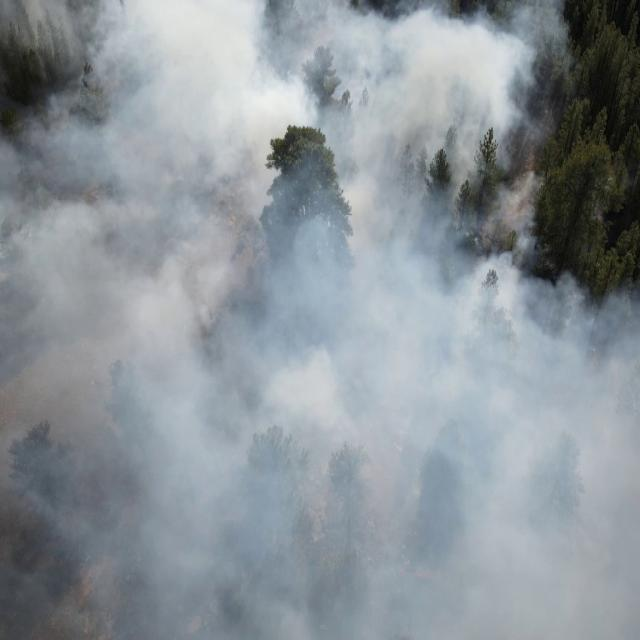smoke: (0, 0, 545, 640), (544, 271, 640, 640), (545, 0, 571, 122)
